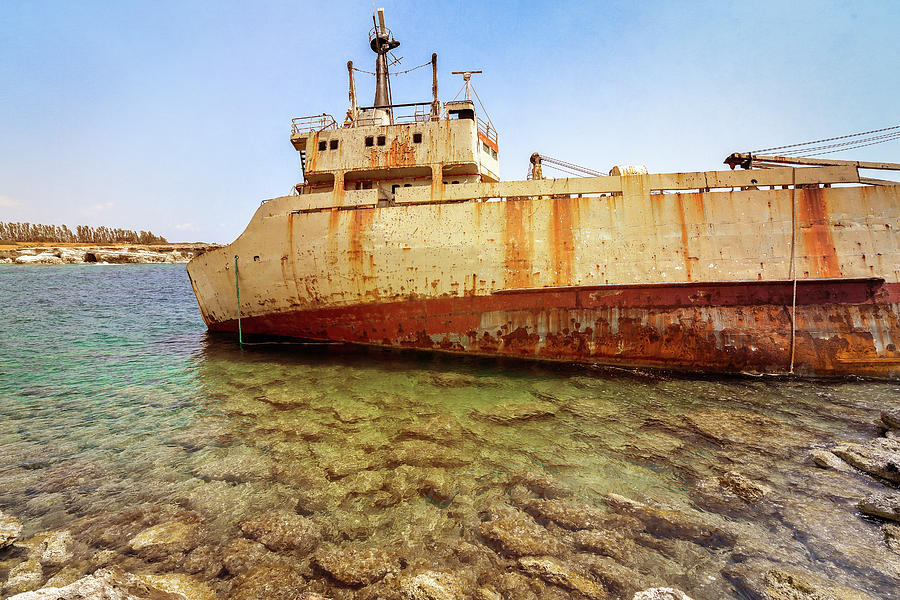rust: (435, 325, 871, 365), (502, 201, 581, 281), (652, 194, 714, 274), (792, 196, 843, 275), (324, 210, 377, 275)
